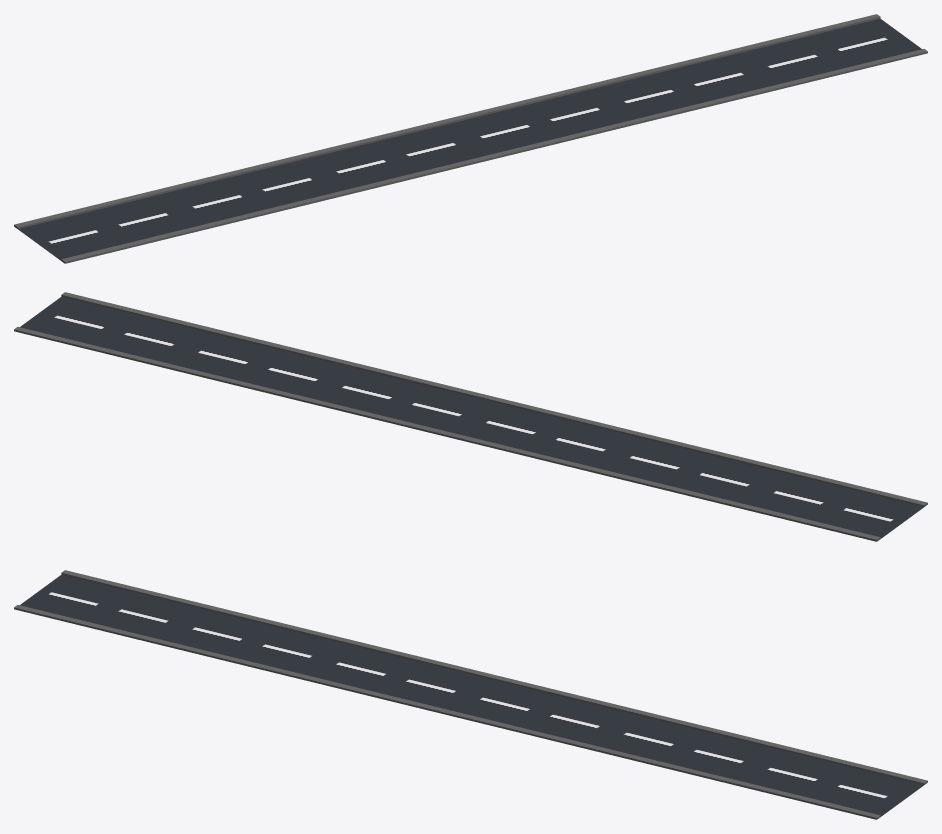
Rendered from Road A_long.fbx.
3 renders of one model, top to bottom at view 1: azimuth 30°, elevation 25°; view 2: azimuth 150°, elevation 25°; view 3: azimuth 330°, elevation 25°, orthographic.
Visible parts, largest first — view 1: Road A_long, Road A_side.long; view 2: Road A_long, Road A_side.long; view 3: Road A_long, Road A_side.long.
Boxes of the visible parts, x1,y1,x2,y2 form: Road A_long: [18, 18, 921, 260]; Road A_side.long: [14, 14, 927, 263]; Road A_long: [20, 296, 923, 538]; Road A_side.long: [14, 292, 927, 541]; Road A_long: [20, 574, 923, 816]; Road A_side.long: [14, 570, 927, 819].
Bounding box in the file's own units: 28139 × 59.32 × 2886.
Materials: 2 (1 with a texture image).
